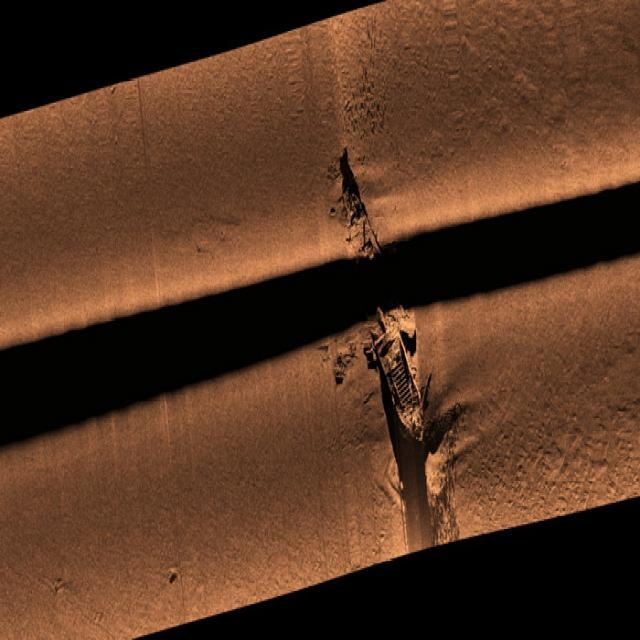shipwreck: (336, 155, 446, 467)
